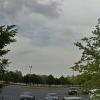Tree: (69, 23, 100, 92)
